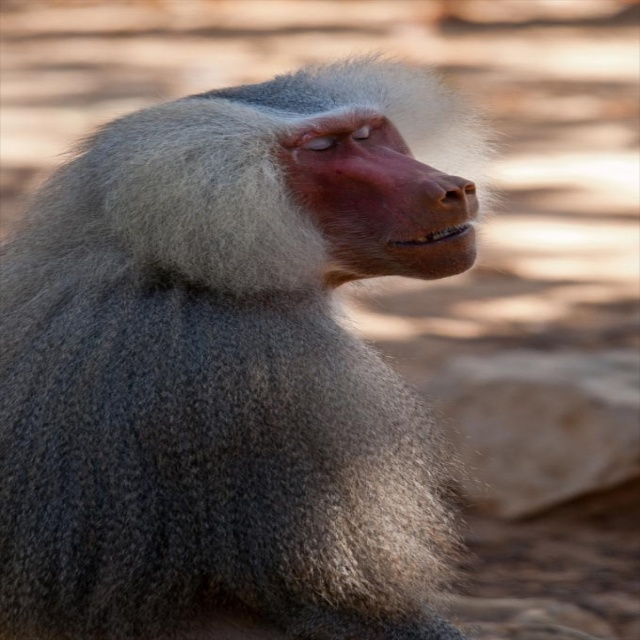Monkey: (0, 50, 502, 639)
